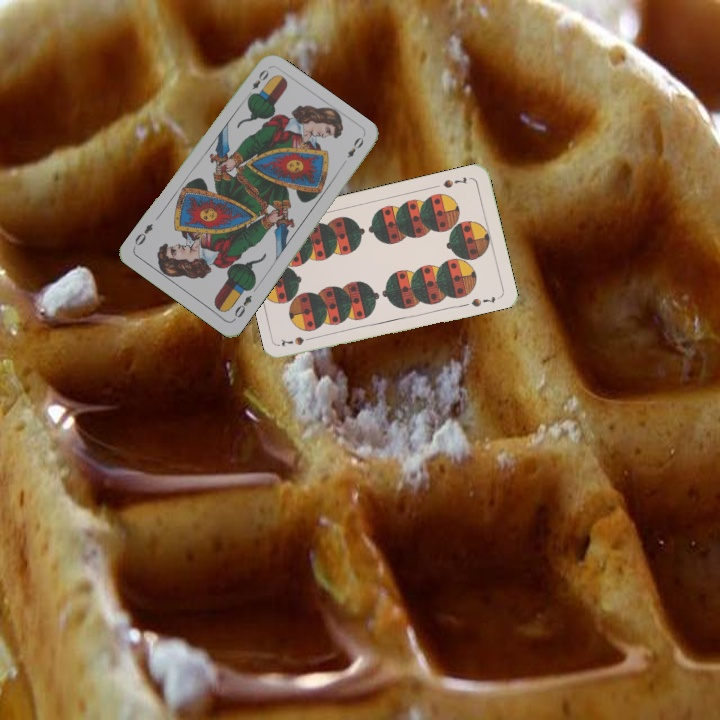EO: (242, 65, 272, 101), (230, 291, 255, 320)
S7: (277, 332, 318, 349), (439, 173, 469, 191)
